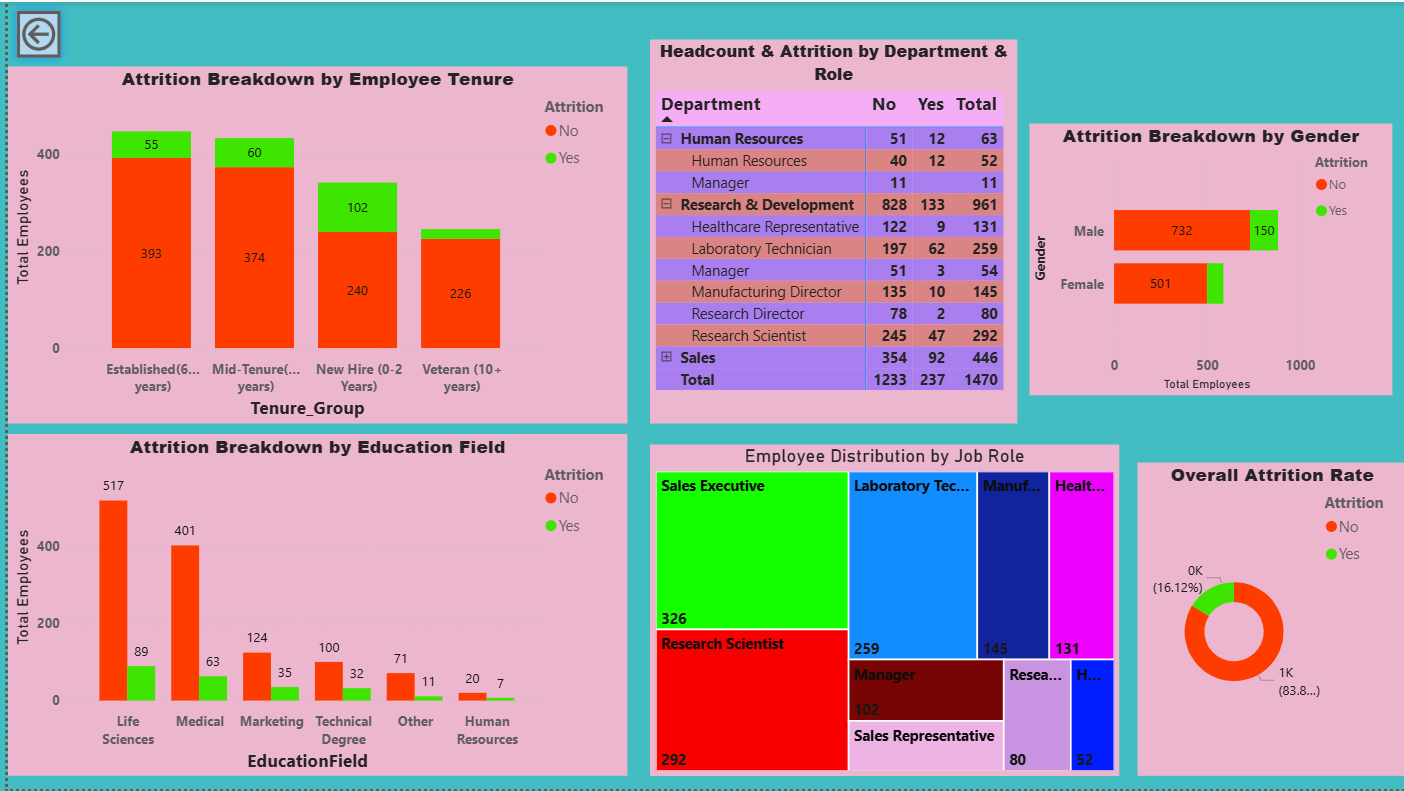

This screenshot's page, from the dashboard's own definition file:
{"tool":"powerbi","page":{"name":"Demographic Analysis","canvas":[1280,720],"ordinal":1},"visuals":[{"type":"columnChart","title":"Attrition Breakdown by Employee Tenure","fields":{"Category":["HR.Tenure_Group"],"Y":["HR.Total Employees"],"Series":["HR.Attrition"]},"box":[0,59,566.8,326.6],"z":0},{"type":"clusteredColumnChart","title":"Attrition Breakdown by Education Field","fields":{"Series":["HR.Attrition"],"Category":["HR.EducationField"],"Y":["HR.Total Employees"]},"box":[0,395.2,566.8,312.9],"z":1000},{"type":"pivotTable","title":"Headcount & Attrition by Department & Role","fields":{"Rows":["HR.Department","HR.JobRole"],"Values":["HR.Total Employees"],"Columns":["HR.Attrition"]},"box":[587.4,34.3,336.2,351.3],"z":2000},{"type":"donutChart","title":"Overall Attrition Rate","fields":{"Category":["HR.Attrition"],"Y":["HR.Total Employees"]},"box":[1033.4,421.3,247,286.8],"z":3000},{"type":"treemap","title":"Employee Distribution by Job Role","fields":{"Group":["HR.JobRole"],"Values":["HR.Total Employees"]},"box":[587.4,404.8,429.5,303.3],"z":4000},{"type":"barChart","title":"Attrition Breakdown by Gender","fields":{"Y":["HR.Total Employees"],"Category":["HR.Gender"],"Series":["HR.Attrition"]},"box":[934.6,111.2,332.1,248.4],"z":5000},{"type":"actionButton","box":[0,0,56.3,59],"z":11000}]}

Visuals, with their boxes in screenshot pixels (x1, y1, x2, y2), scaled from the page's 1280x720 canvas onto the 1404x791 screenshot:
"Attrition Breakdown by Employee Tenure" columnChart: pyautogui.locateOnScreen(0, 65, 622, 424)
"Attrition Breakdown by Education Field" clusteredColumnChart: pyautogui.locateOnScreen(0, 434, 622, 778)
"Headcount & Attrition by Department & Role" pivotTable: pyautogui.locateOnScreen(644, 38, 1013, 424)
"Overall Attrition Rate" donutChart: pyautogui.locateOnScreen(1134, 463, 1403, 778)
"Employee Distribution by Job Role" treemap: pyautogui.locateOnScreen(644, 445, 1115, 778)
"Attrition Breakdown by Gender" barChart: pyautogui.locateOnScreen(1025, 122, 1389, 395)
actionButton: pyautogui.locateOnScreen(0, 0, 62, 65)
